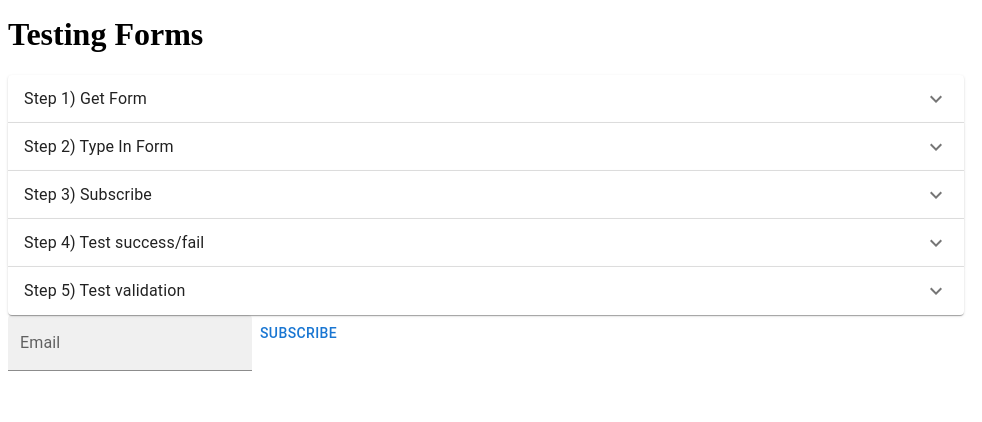
Form testing › Test subscribe form
Expected: the heading "Testing Forms" is shown, [8, 16, 203, 52]
Type "shadyhussein99@gmail.com" into the field labelled "Email" at (130, 343), box [8, 315, 252, 371]
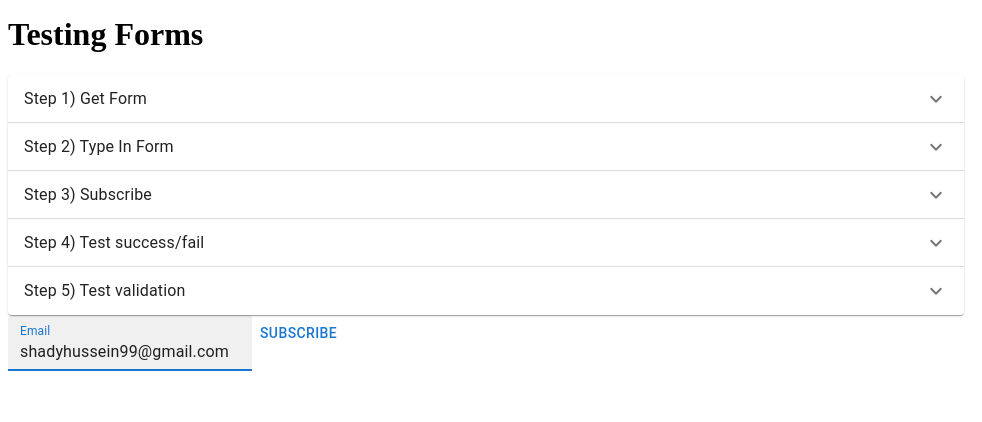
Click the button with test id "subscribe-button" at (299, 334), box [252, 315, 345, 352]
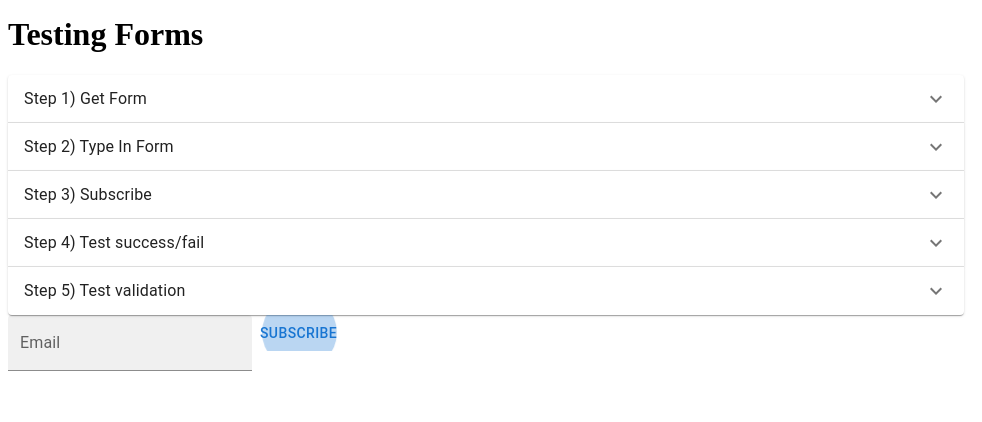
Type "shadyhussein99@gmail.c" into the field labelled "Email" at (130, 343), box [8, 315, 252, 371]
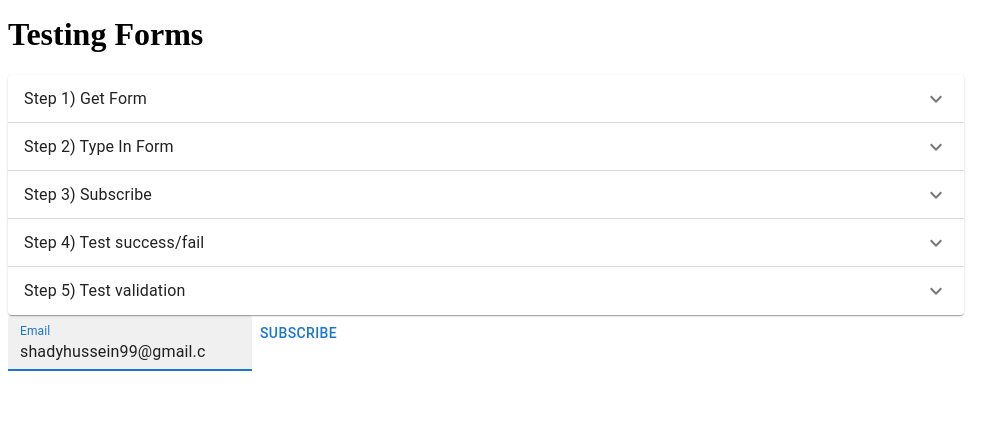
Click the button with test id "subscribe-button" at (299, 334), box [252, 315, 345, 352]
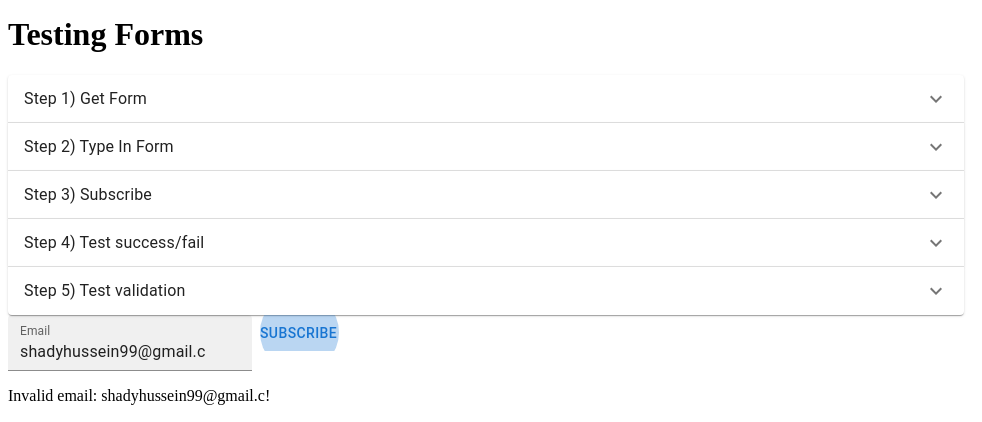
Expected: the text "Invalid email: shadyhussein99@gmail.c!" is shown, [8, 387, 270, 404]
